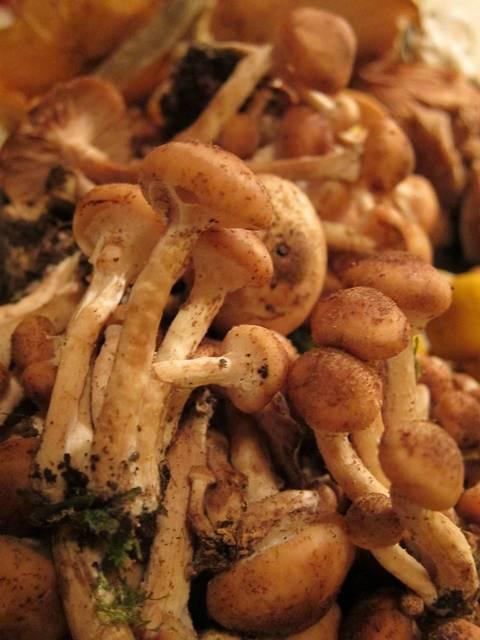Edible Mushroom: (2, 3, 477, 637)
